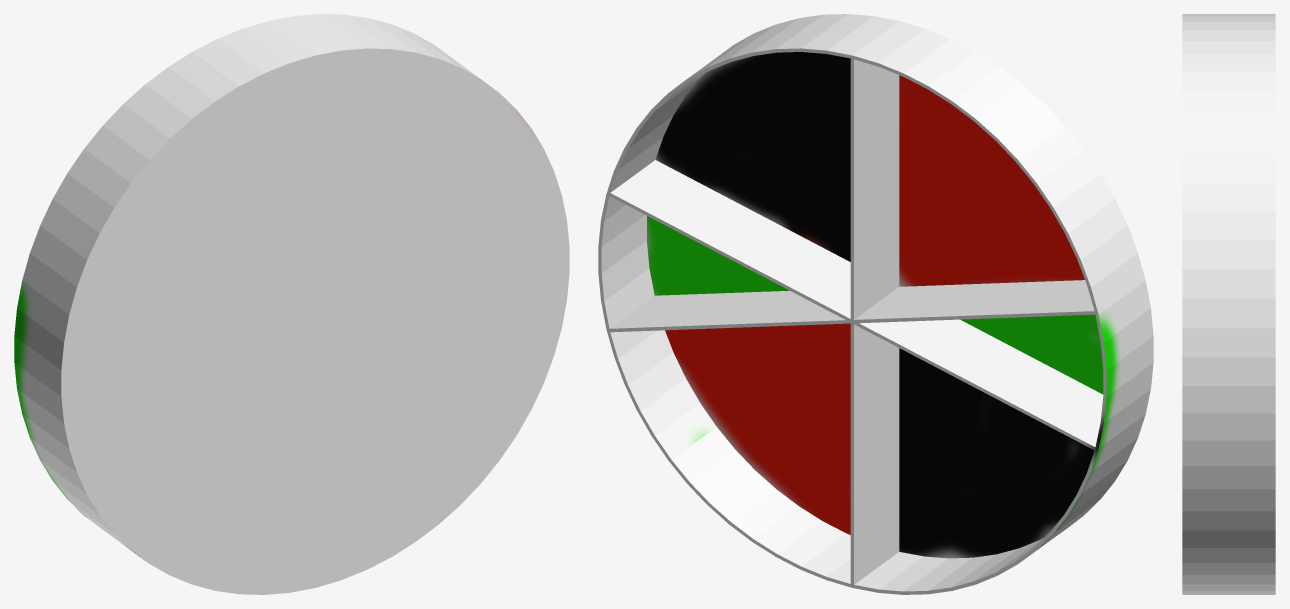
The model's file is Roulette.dae.
The picture shows the model from 3 angles, left to right: view 1: azimuth 30°, elevation 25°; view 2: azimuth 150°, elevation 25°; view 3: azimuth 270°, elevation 25°; orthographic projection.
Parts seen in each view (by area): view 1: Roulette_Wheel; view 2: Roulette_Wheel; view 3: Roulette_Wheel.
Boxes of the visible parts, x1,y1,x2,y2 form: Roulette_Wheel: (14,14,569,594); Roulette_Wheel: (598,14,1153,594); Roulette_Wheel: (1182,14,1275,594).
Bounding box in the file's own units: 2.73 × 0.4375 × 2.73.
1 material, 1 textured.
